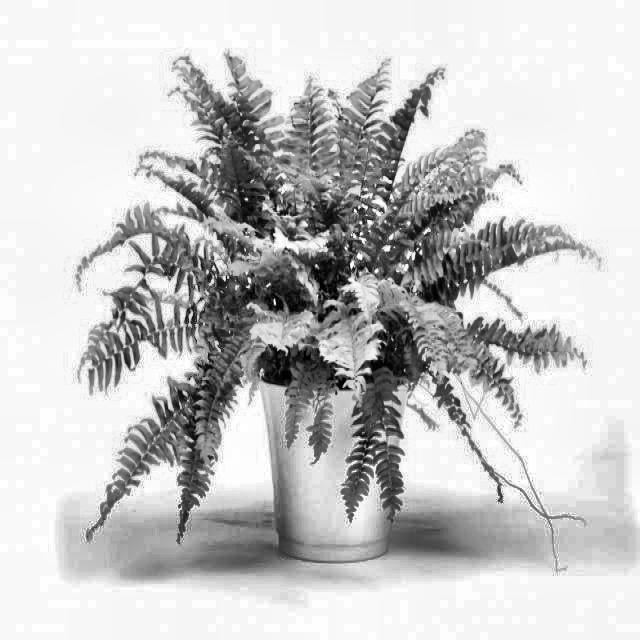plants: (60, 29, 597, 584)
